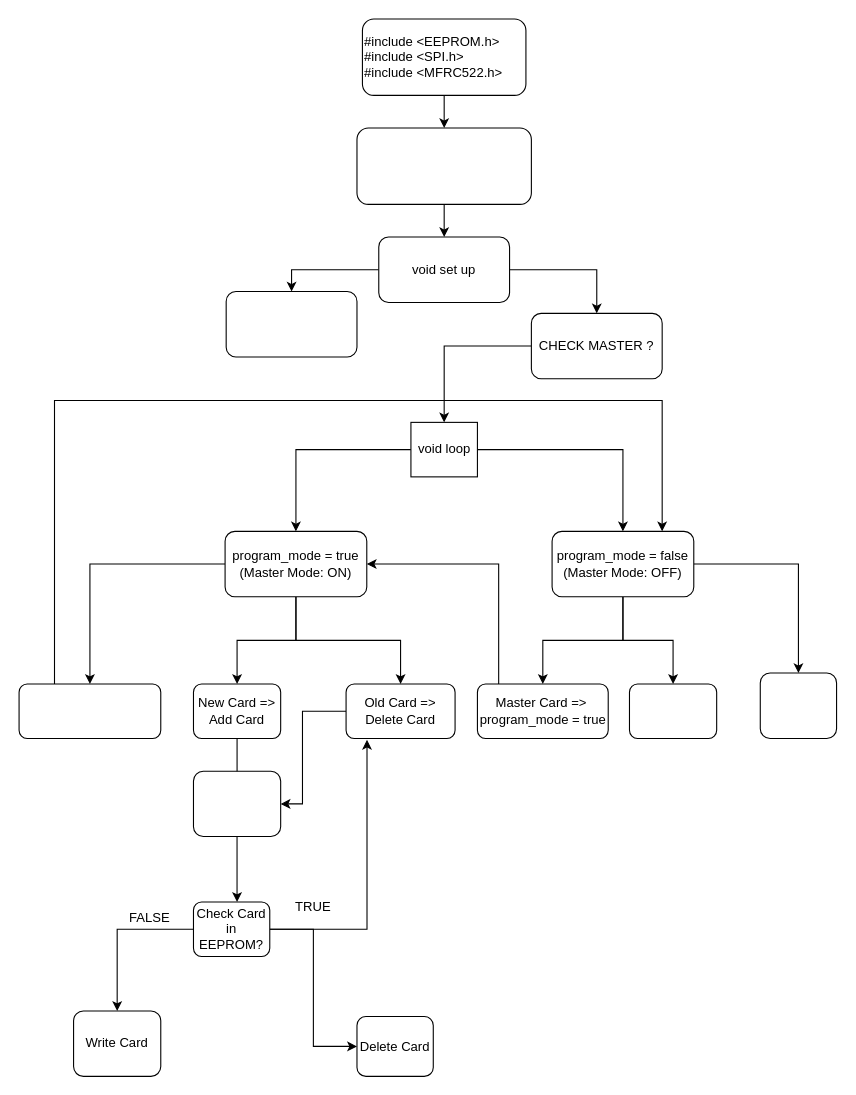
Image size: 856x1095. Some labels were removed from this diagram. The shapes that lost their labels are listed below. From the top down, each one's centre as x and y in pixels, then its label:
the point at 443,165: int read_card[4] int master_card[4] int store_card[4] bool program_mode = false
the point at 291,323: Init : LCD, RC522, BT, RL
the point at 89,710: Master => program_mode = false
the point at 672,710: New Card => "ERROR"
the point at 798,705: Old Card => "Program"
the point at 236,803: Read Card
